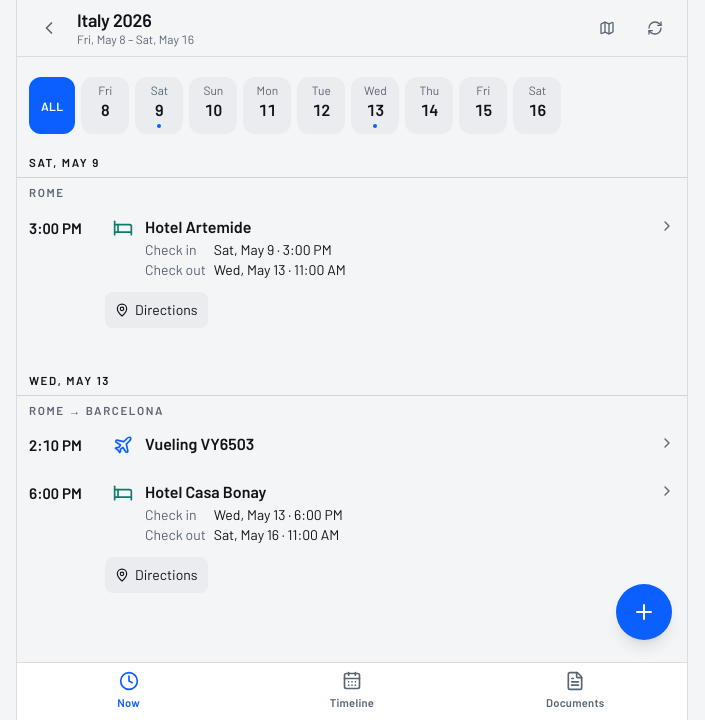
Scenario: the timeline day strip › All puts the whole trip back
This screenshot has width=705, height=720.
Click the button with aria-label "Show Wed, May 13". click: (375, 106)
box: [351,77,399,134]
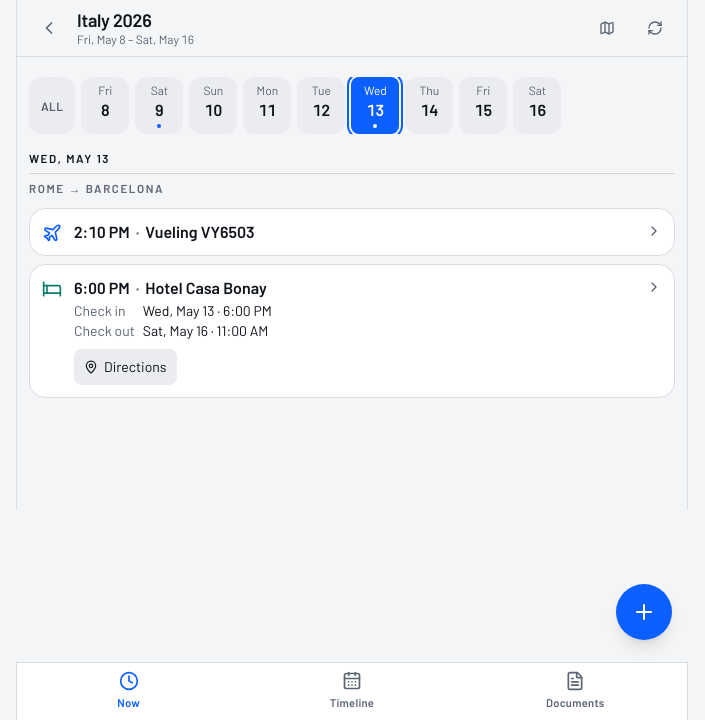
Click the button "All". click: (52, 106)
box: [29,77,75,134]
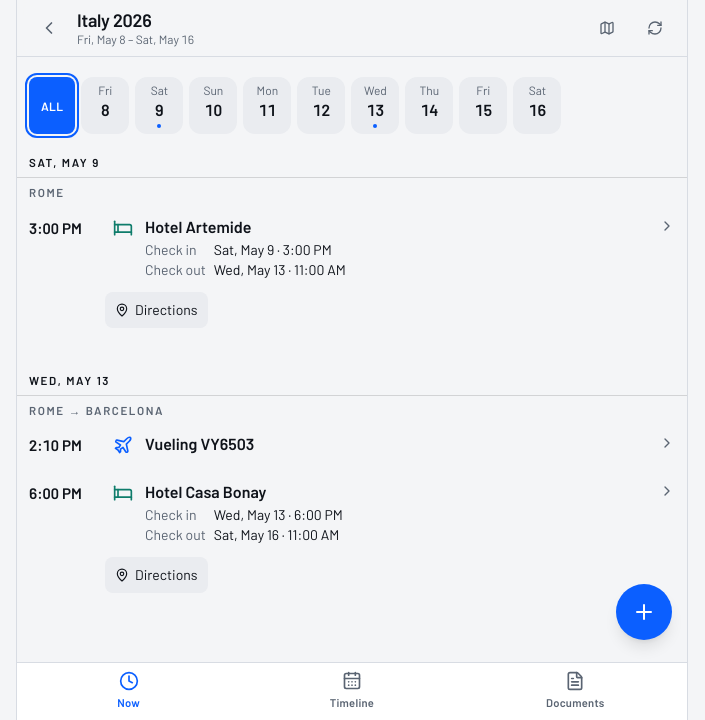
expect the text "Hotel Casa Bonay" is shown: met, box [145,482,266,501]
expect the text "Hotel Artemide" is shown: met, box [145,216,251,236]
